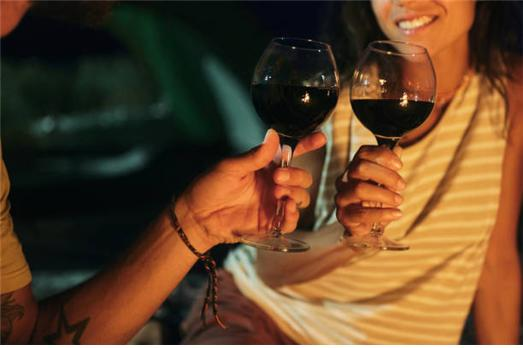alcohol: (237, 35, 340, 254), (342, 41, 435, 249)
